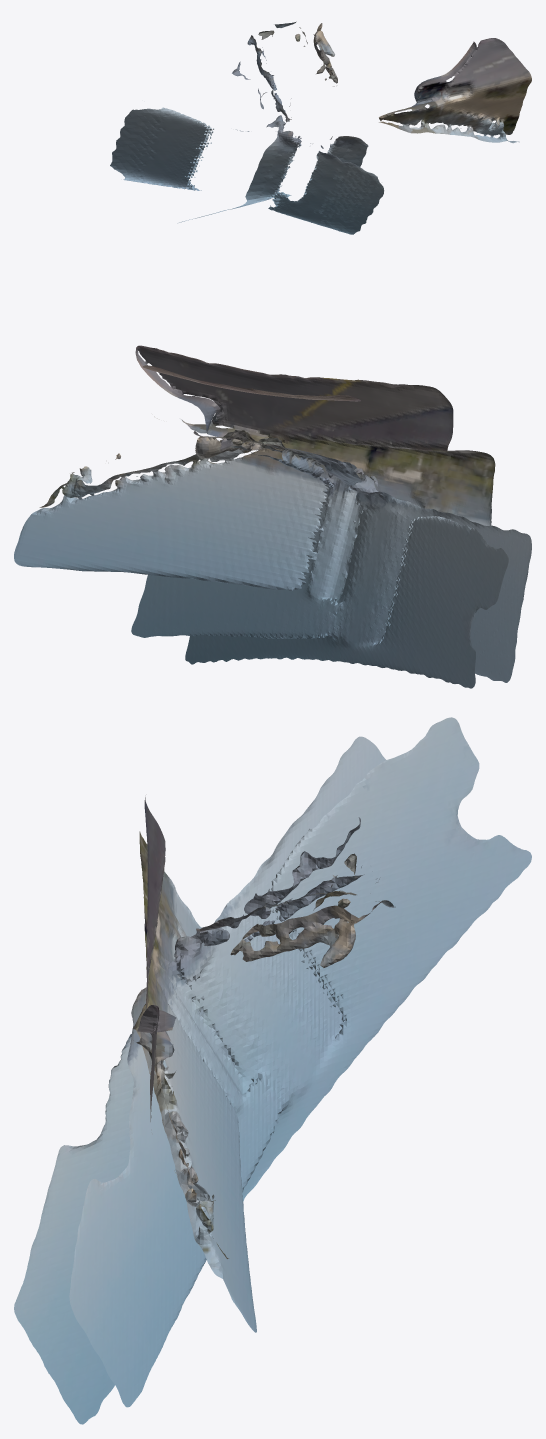
3 views of the same model, one above another, from view 1: azimuth 30°, elevation 25°; view 2: azimuth 150°, elevation 25°; view 3: azimuth 270°, elevation 25° (orthographic). The views are drawn at different scales.
Visible parts, largest first — view 1: mesh.ply; view 2: mesh.ply; view 3: mesh.ply.
Part boxes in pixels (box(x1,y1,x2,y2)): mesh.ply: box(110, 21, 531, 234); mesh.ply: box(14, 345, 531, 688); mesh.ply: box(14, 717, 531, 1424).
Bounding box in the file's own units: 32.46 × 19.15 × 19.43.
